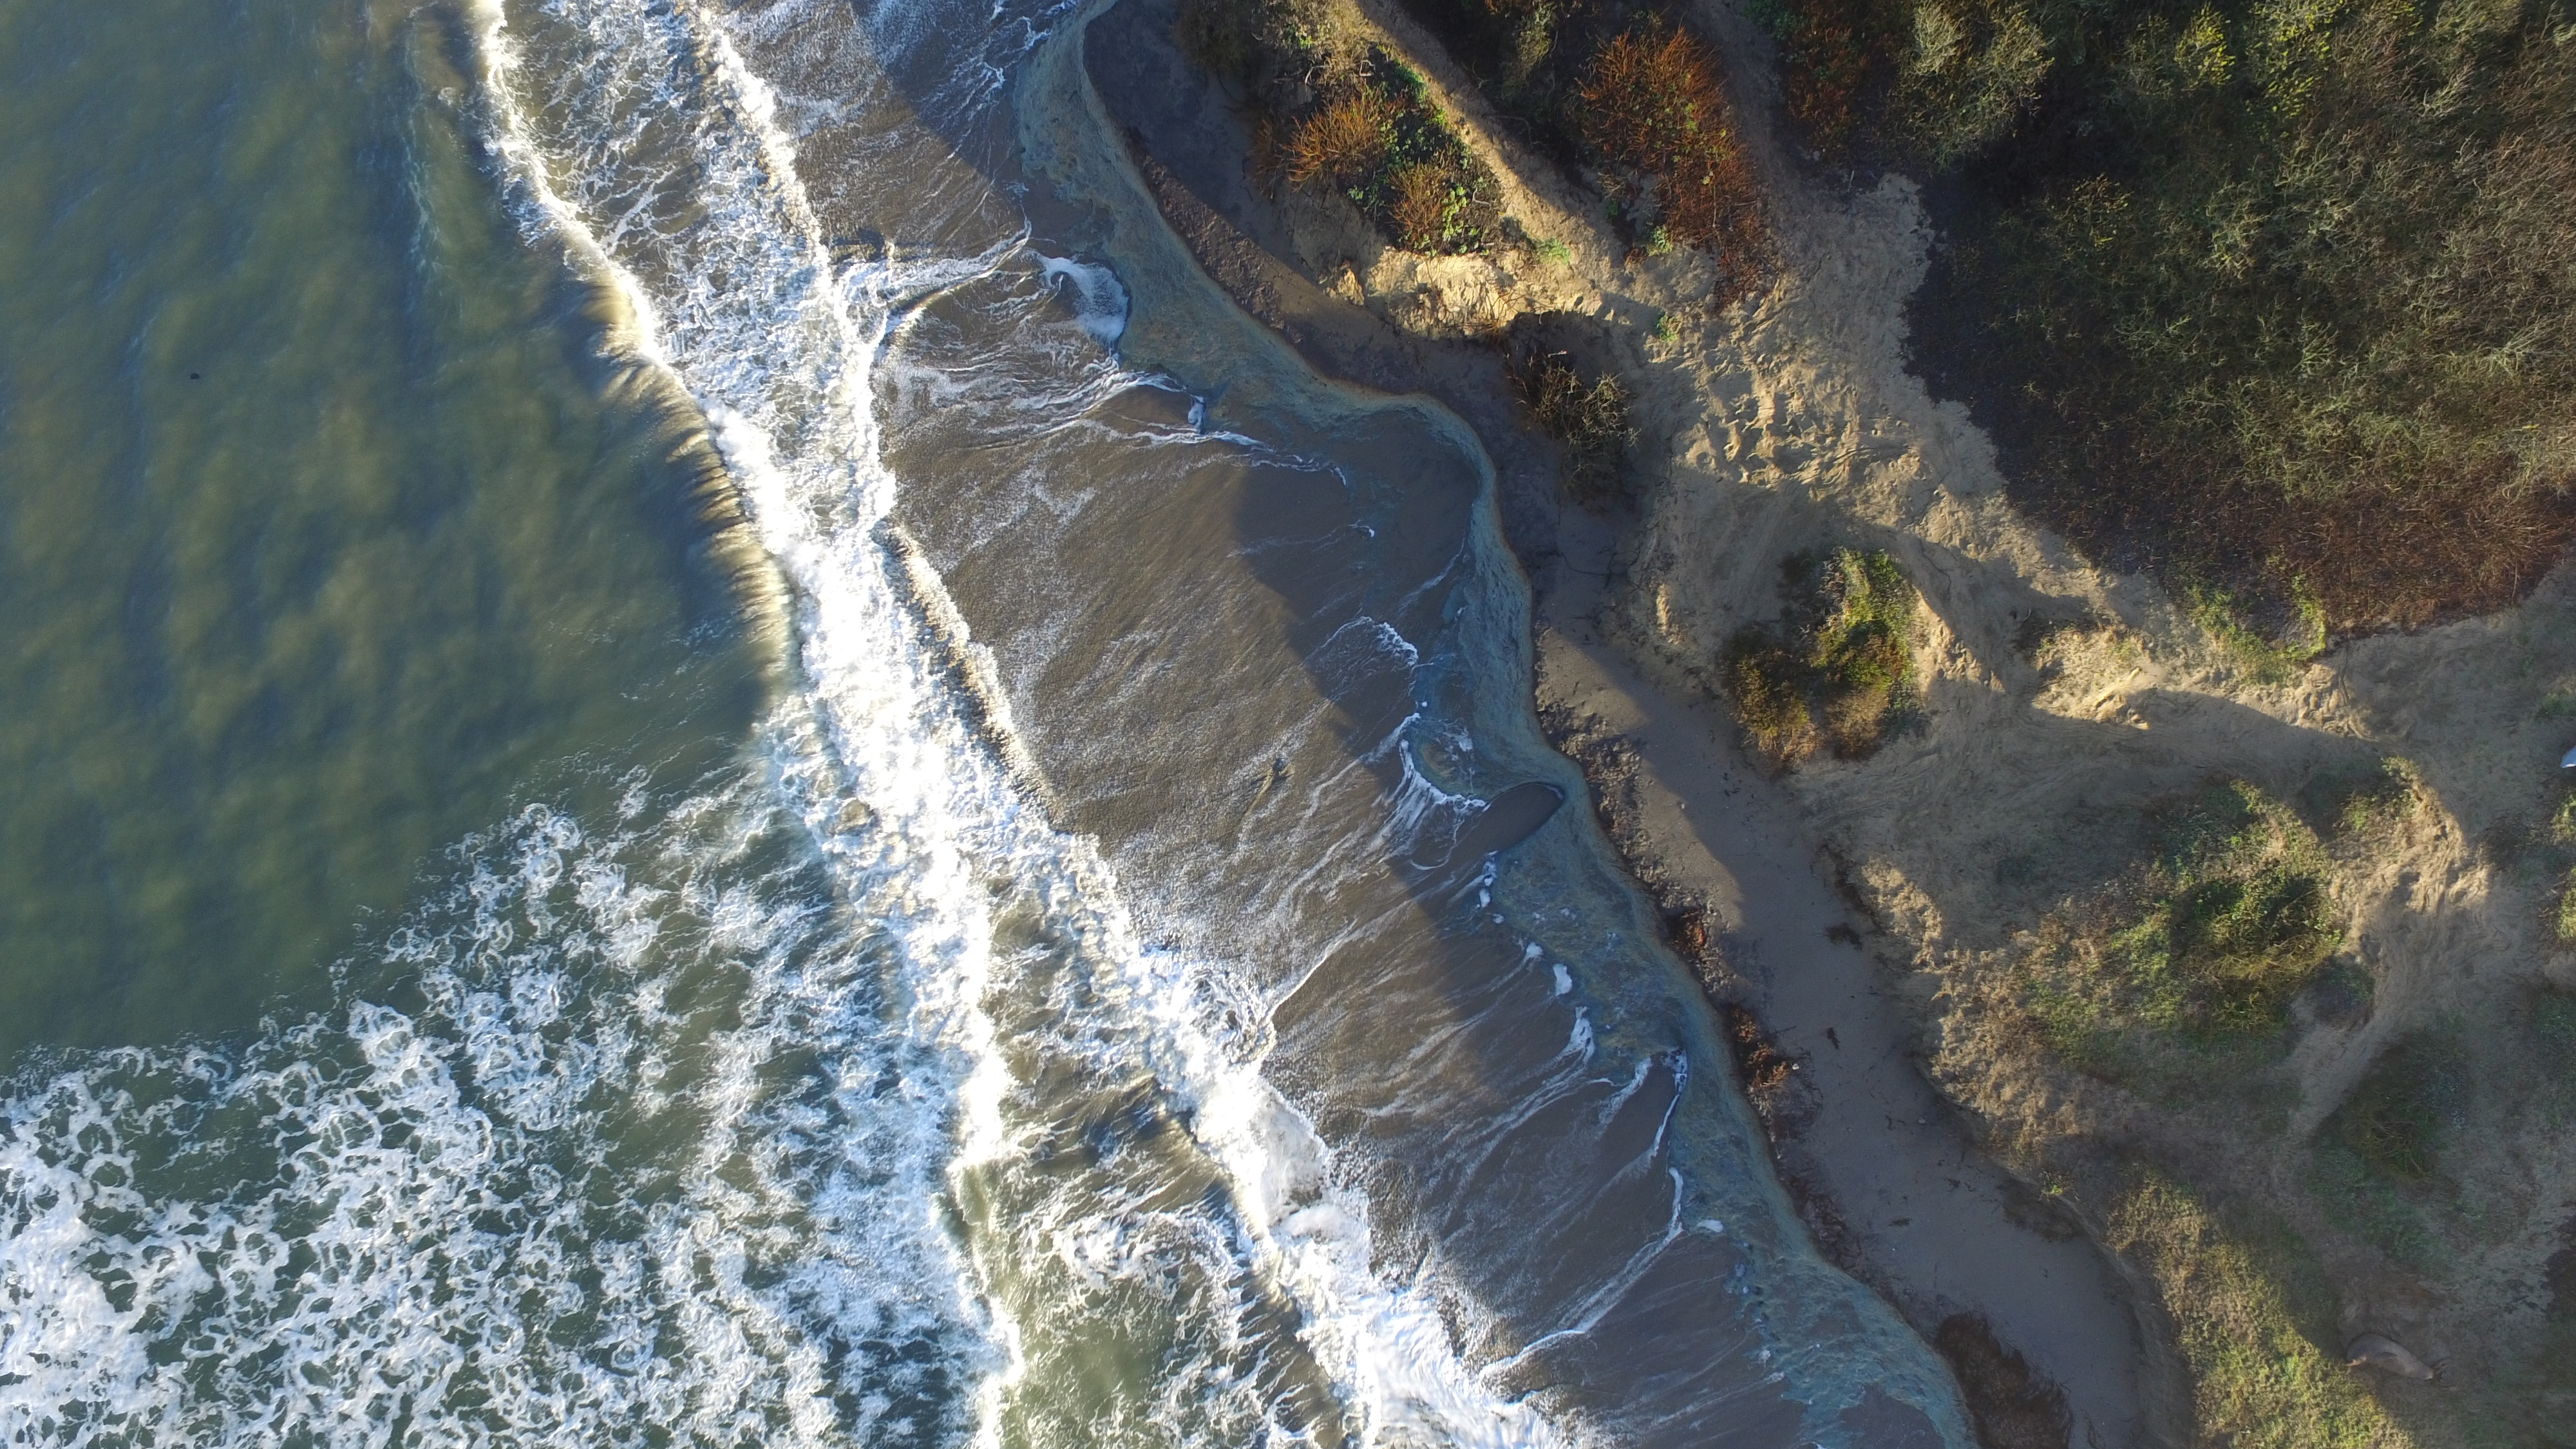juvenile male / juvenile female / adult female: (2346, 1332, 2434, 1382)
